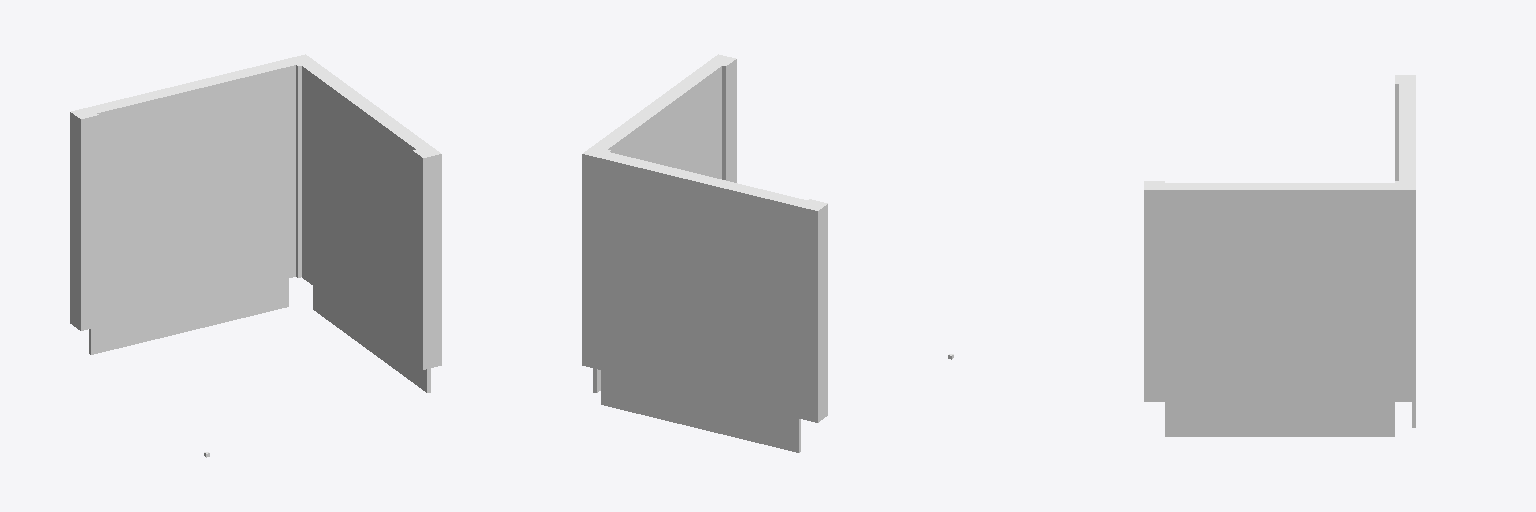
Rendered from Wall-0011.obj.
The picture shows the model from 3 angles: view 1: azimuth 30°, elevation 25°; view 2: azimuth 150°, elevation 25°; view 3: azimuth 270°, elevation 25°; orthographic projection.
Size of the model in its own units: 64 by 64 by 64.